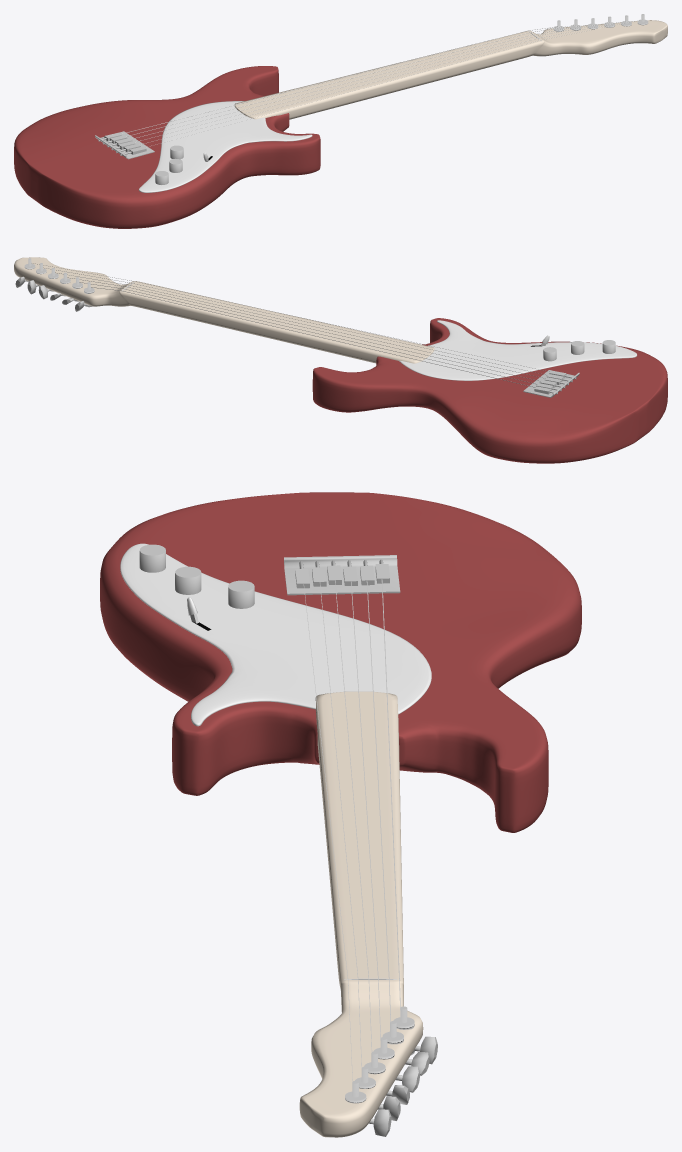
Rendered from guitarelec.fbx.
3 views of the same model, one above another, from view 1: azimuth 30°, elevation 25°; view 2: azimuth 150°, elevation 25°; view 3: azimuth 270°, elevation 25° (orthographic). The views are drawn at different scales.
Visible parts, largest first — view 1: guitar.body, guitar.neck, faceplate, String.1, String.2, String.3, String.4, String.5, pickups, String.6; view 2: guitar.body, guitar.neck, faceplate, String.1, String.4, String.2, String.3, pickups, String.5; view 3: guitar.body, guitar.neck, faceplate, pickups.
Boxes of the visible parts, x1=… form: guitar.body: x1=14, y1=66, x2=320, y2=228; guitar.neck: x1=234, y1=20, x2=667, y2=119; faceplate: x1=138, y1=101, x2=312, y2=192; String.1: x1=121, y1=26, x2=559, y2=134; String.2: x1=126, y1=25, x2=575, y2=136; String.3: x1=131, y1=24, x2=592, y2=139; String.4: x1=134, y1=22, x2=608, y2=142; String.5: x1=140, y1=21, x2=626, y2=144; pickups: x1=95, y1=131, x2=154, y2=159; String.6: x1=145, y1=19, x2=642, y2=147; guitar.body: x1=312, y1=318, x2=667, y2=463; guitar.neck: x1=14, y1=257, x2=434, y2=363; faceplate: x1=399, y1=320, x2=637, y2=380; String.1: x1=91, y1=287, x2=535, y2=387; String.4: x1=55, y1=272, x2=545, y2=378; String.2: x1=79, y1=282, x2=537, y2=384; String.3: x1=67, y1=277, x2=540, y2=381; pickups: x1=523, y1=370, x2=579, y2=397; String.5: x1=43, y1=267, x2=547, y2=375; guitar.body: x1=100, y1=492, x2=581, y2=832; guitar.neck: x1=299, y1=691, x2=423, y2=1137; faceplate: x1=120, y1=543, x2=431, y2=726; pickups: x1=284, y1=555, x2=400, y2=595.
Bounding box in the file's own units: 503 × 33.05 × 167.
